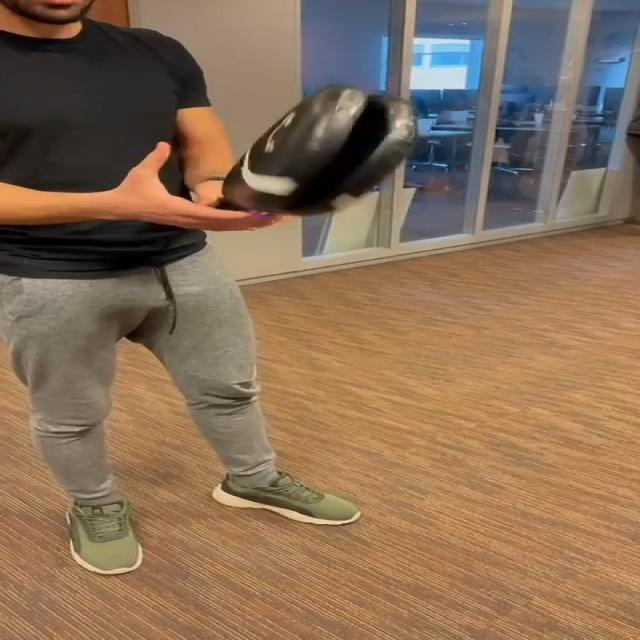paddle: (212, 91, 410, 216)
